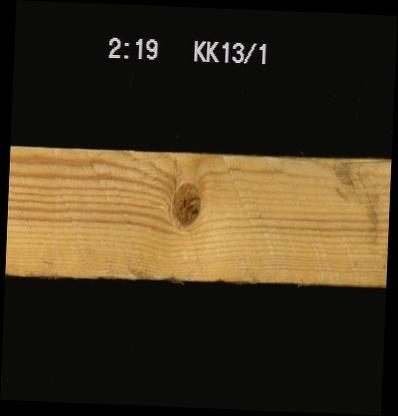sound_knot: (167, 181, 205, 227)
